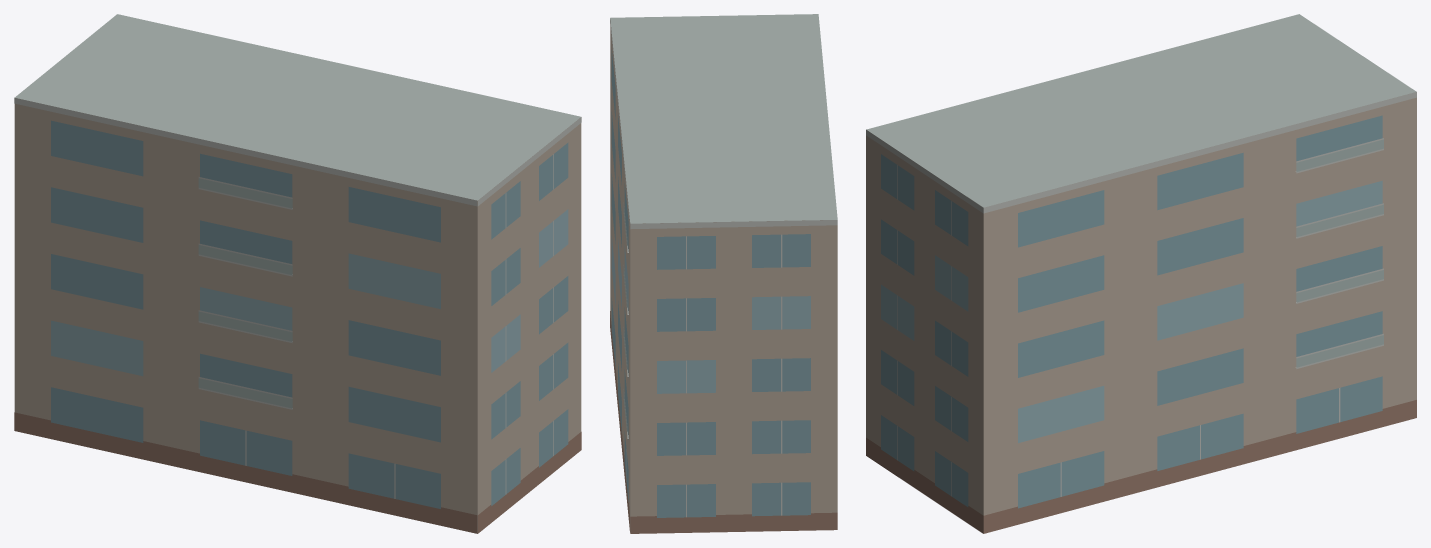
Rendered from survey-upis-32720542.glb.
The picture shows the model from 3 angles, left to right: view 1: azimuth 30°, elevation 25°; view 2: azimuth 150°, elevation 25°; view 3: azimuth 270°, elevation 25°; orthographic projection. The views are drawn at different scales.
Visible parts, largest first — view 1: survey-upis-32720542.tmp; view 2: survey-upis-32720542.tmp; view 3: survey-upis-32720542.tmp.
Boxes of the visible parts, x1,y1,x2,y2 form: survey-upis-32720542.tmp: (14,14,581,533); survey-upis-32720542.tmp: (610,14,837,533); survey-upis-32720542.tmp: (866,14,1416,533).
Bounding box in the file's own units: 17.59 × 13.8 × 21.13.
